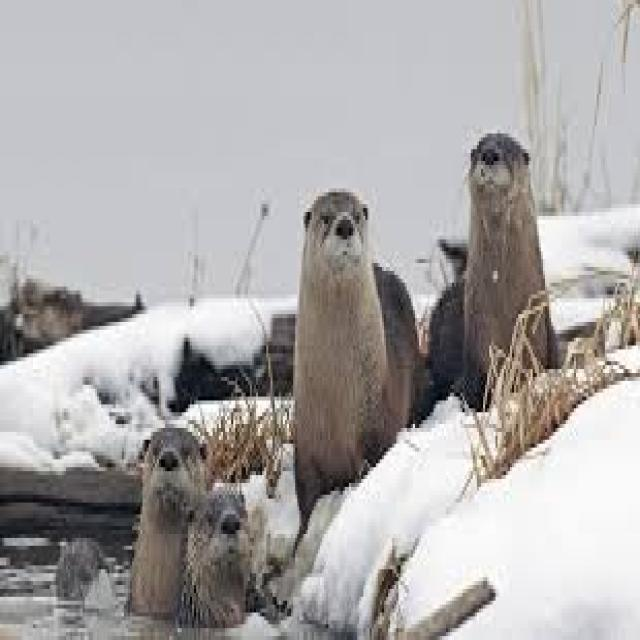Otter: (289, 178, 429, 538), (430, 110, 565, 414), (130, 408, 197, 638), (181, 480, 256, 632)
